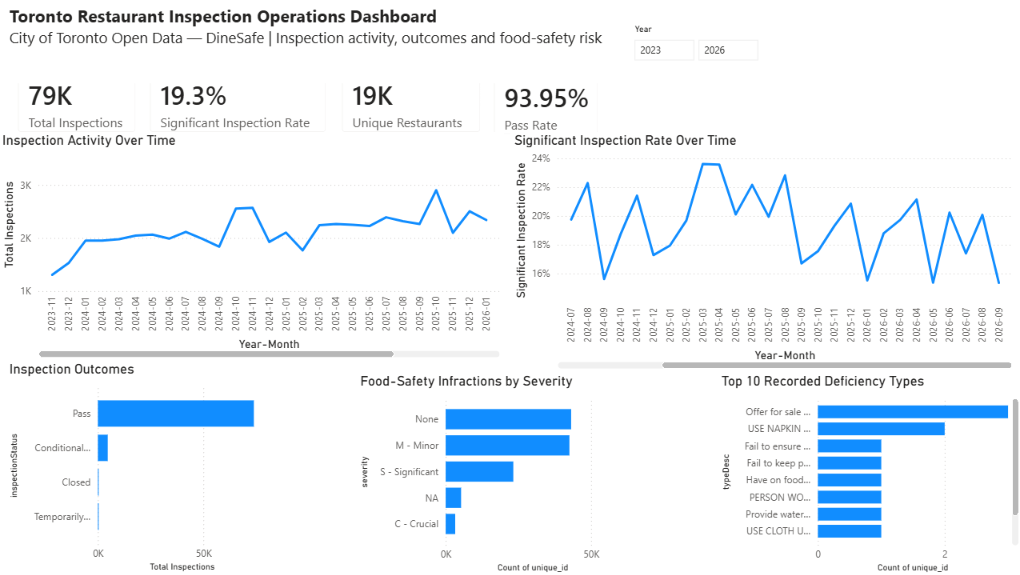

Layout of this report page (visuals, bound fields, positions):
{"tool":"powerbi","page":{"name":"Dashboard Overview","canvas":[1280,720],"ordinal":0},"visuals":[{"type":"cardVisual","fields":{"Data":["DINESAFE.Total Inspections"]},"box":[7.6,76.3,181.6,106.8],"z":0},{"type":"cardVisual","fields":{"Data":["DINESAFE.Significant Inspection Rate"]},"box":[172.4,76.3,254.8,106.8],"z":1000},{"type":"cardVisual","fields":{"Data":["DINESAFE.Unique Restaurants"]},"box":[412,76.3,207.5,106.8],"z":2000},{"type":"cardVisual","fields":{"Data":["DINESAFE.Pass Rate"]},"box":[602.8,79.4,164.8,106.8],"z":3000},{"type":"textbox","box":[9.2,0,773.7,103.8],"z":4000},{"type":"slicer","fields":{"Values":["Calendar.Year"]},"box":[782.6,24.5,182.2,79.5],"z":4001},{"type":"lineChart","title":"Inspection Activity Over Time","fields":{"Category":["Calendar.Year-Month"],"Y":["DINESAFE.Total Inspections"]},"box":[0,164.8,631.8,286.9],"z":4002},{"type":"lineChart","title":"Significant Inspection Rate Over Time","fields":{"Category":["Calendar.Year-Month"],"Y":["DINESAFE.Significant Inspection Rate"]},"box":[639.5,165.1,632.2,300.8],"z":4003},{"type":"clusteredBarChart","title":"Inspection Outcomes","fields":{"Y":["DINESAFE.Total Inspections"],"Category":["DINESAFE.inspectionStatus"]},"box":[9.2,451.7,341.8,268.6],"z":4004},{"type":"clusteredBarChart","title":"Food-Safety Infractions by Severity","fields":{"Category":["DINESAFE.severity"],"Y":["CountNonNull(DINESAFE.unique_id)"]},"box":[447.6,465.9,344.8,254.3],"z":4005},{"type":"clusteredBarChart","title":"Top 10 Recorded Deficiency Types","fields":{"Category":["DINESAFE.typeDesc"],"Y":["CountNonNull(DINESAFE.unique_id)"]},"box":[898.8,465.9,381.5,254.3],"z":4006}]}

Visuals, with their boxes in screenshot pixels (x1, y1, x2, y2), scaled from the page's 1280x720 canvas onto the 1020x575 screenshot:
cardVisual - DINESAFE.Total Inspections: pyautogui.locateOnScreen(6, 61, 151, 146)
cardVisual - DINESAFE.Significant Inspection Rate: pyautogui.locateOnScreen(137, 61, 340, 146)
cardVisual - DINESAFE.Unique Restaurants: pyautogui.locateOnScreen(328, 61, 494, 146)
cardVisual - DINESAFE.Pass Rate: pyautogui.locateOnScreen(480, 63, 612, 149)
textbox: pyautogui.locateOnScreen(7, 0, 624, 83)
slicer - Calendar.Year: pyautogui.locateOnScreen(624, 20, 769, 83)
"Inspection Activity Over Time" lineChart: pyautogui.locateOnScreen(0, 132, 503, 361)
"Significant Inspection Rate Over Time" lineChart: pyautogui.locateOnScreen(510, 132, 1013, 372)
"Inspection Outcomes" clusteredBarChart: pyautogui.locateOnScreen(7, 361, 280, 574)
"Food-Safety Infractions by Severity" clusteredBarChart: pyautogui.locateOnScreen(357, 372, 631, 574)
"Top 10 Recorded Deficiency Types" clusteredBarChart: pyautogui.locateOnScreen(716, 372, 1019, 574)
